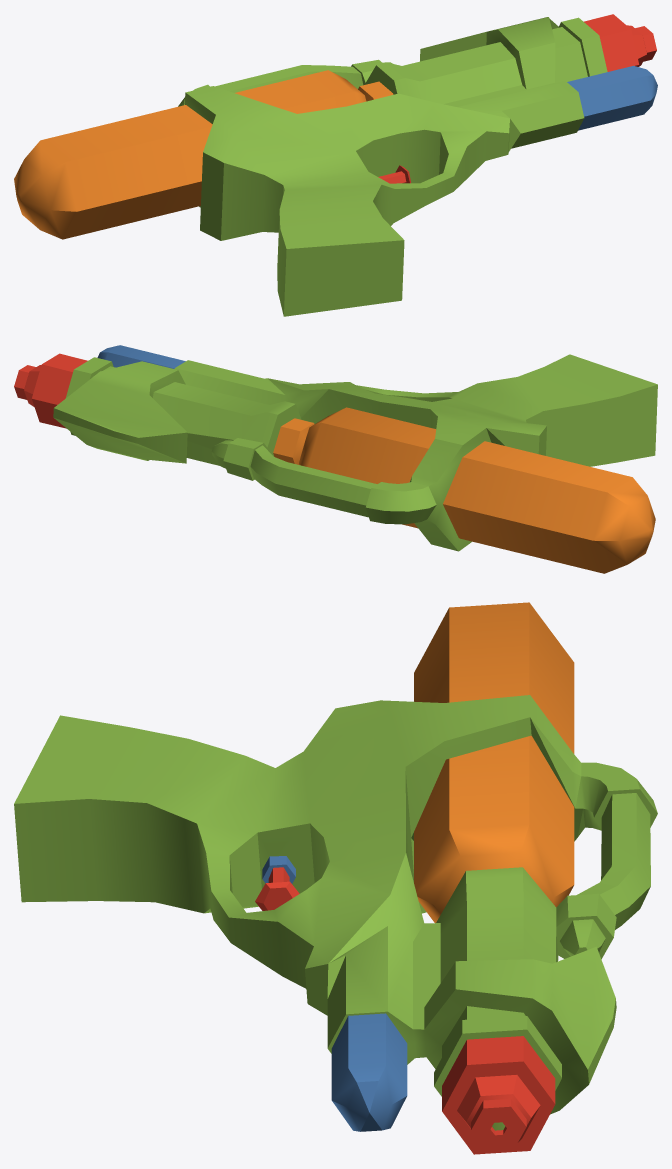
File: Watergun.fbx
3 views of the same model, one above another, from view 1: azimuth 30°, elevation 25°; view 2: azimuth 150°, elevation 25°; view 3: azimuth 270°, elevation 25° (orthographic). The views are drawn at different scales.
Parts seen in each view (by area): view 1: Watergun; view 2: Watergun; view 3: Watergun.
Boxes of the visible parts, box(x1,y1,x2,y2) form: Watergun: box(14, 14, 657, 316); Watergun: box(14, 345, 657, 573); Watergun: box(14, 602, 657, 1154).
Bounding box in the file's own units: 1.26 × 0.205 × 0.7041.
Materials: 1 (1 with a texture image).
